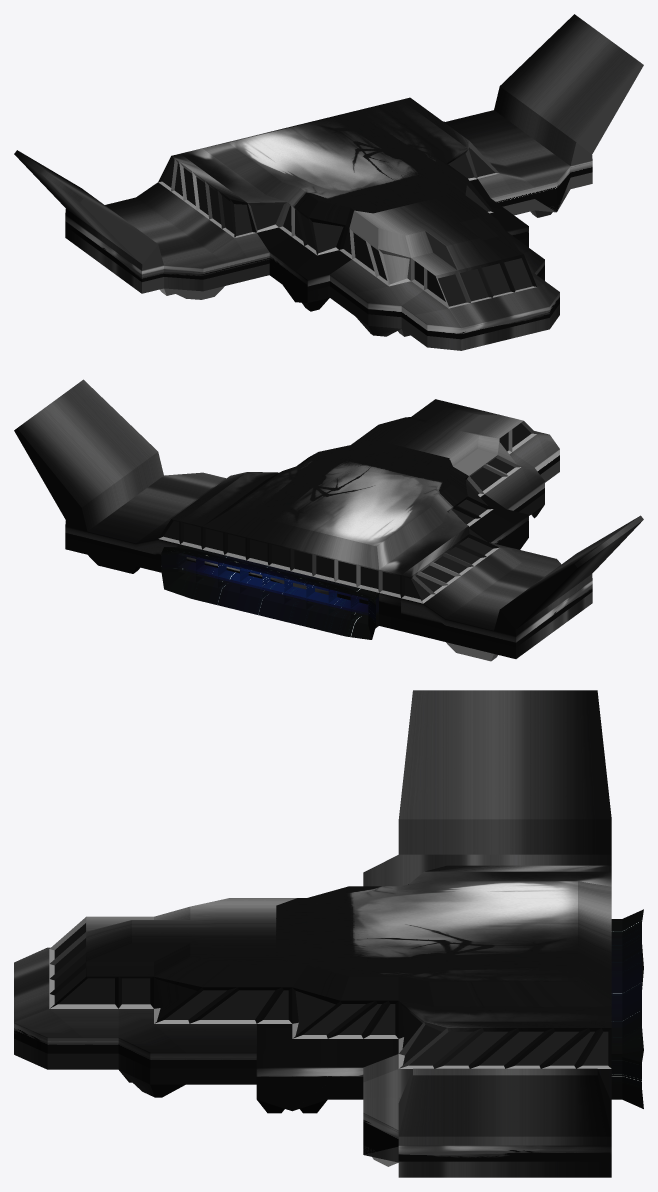
The model's file is Musuh_2.FBX.
3 renders of one model, top to bottom at view 1: azimuth 30°, elevation 25°; view 2: azimuth 150°, elevation 25°; view 3: azimuth 270°, elevation 25°, orthographic. The views are drawn at different scales.
Parts seen in each view (by area): view 1: Box002; view 2: Box002; view 3: Box002.
Boxes of the visible parts, x1=… form: Box002: x1=14, y1=14, x2=643, y2=350; Box002: x1=14, y1=379, x2=643, y2=661; Box002: x1=14, y1=690, x2=643, y2=1177.
Size of the model in its own units: 255 by 50.76 by 177.
10 materials, 4 textured.
